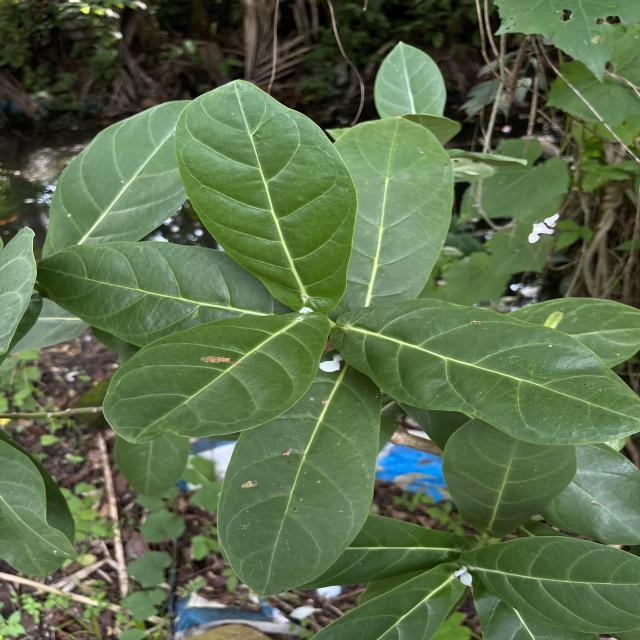Calotropis gigantea: (327, 296, 640, 448), (172, 77, 360, 320), (214, 349, 383, 602), (101, 306, 333, 444), (34, 239, 276, 348), (333, 116, 457, 306), (39, 98, 182, 258), (457, 534, 640, 634), (372, 40, 449, 119)
